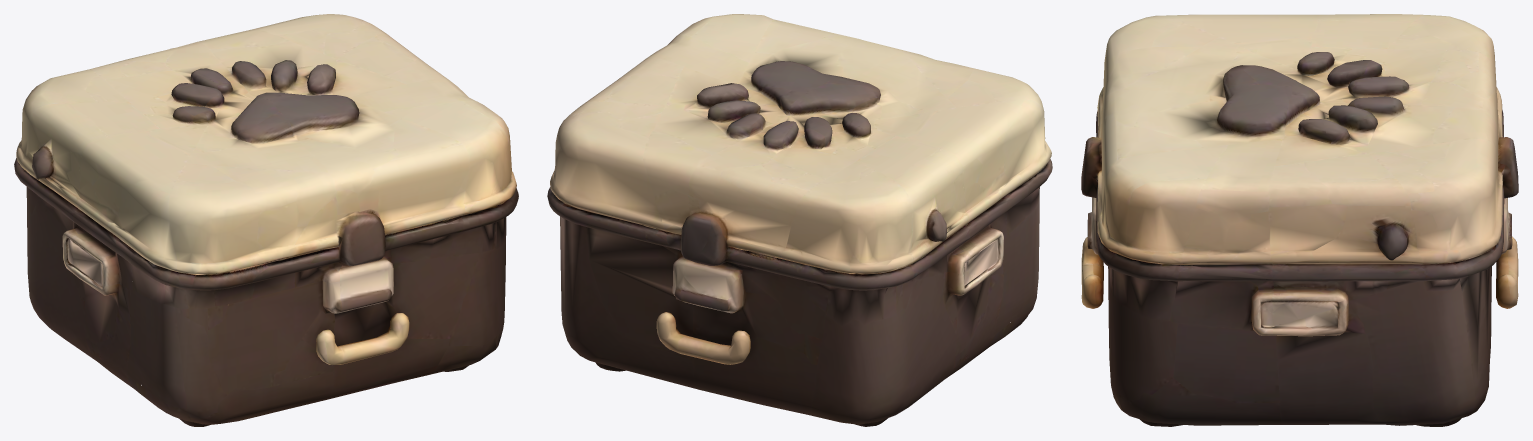
The model's file is file_storage.glb.
3 views of the same model, side by side, from view 1: azimuth 30°, elevation 25°; view 2: azimuth 150°, elevation 25°; view 3: azimuth 270°, elevation 25° (orthographic). The views are drawn at different scales.
Parts seen in each view (by area): view 1: tripo_node_6c8db144-a130-4c6c-be24-2db9ab0f1a85; view 2: tripo_node_6c8db144-a130-4c6c-be24-2db9ab0f1a85; view 3: tripo_node_6c8db144-a130-4c6c-be24-2db9ab0f1a85.
Part boxes in pixels (<box>): tripo_node_6c8db144-a130-4c6c-be24-2db9ab0f1a85: <box>14,14,518,426</box>; tripo_node_6c8db144-a130-4c6c-be24-2db9ab0f1a85: <box>547,14,1052,426</box>; tripo_node_6c8db144-a130-4c6c-be24-2db9ab0f1a85: <box>1081,14,1518,426</box>.
Bounding box in the file's own units: 0.9792 × 0.6266 × 0.9145.
1 material, 1 textured.
